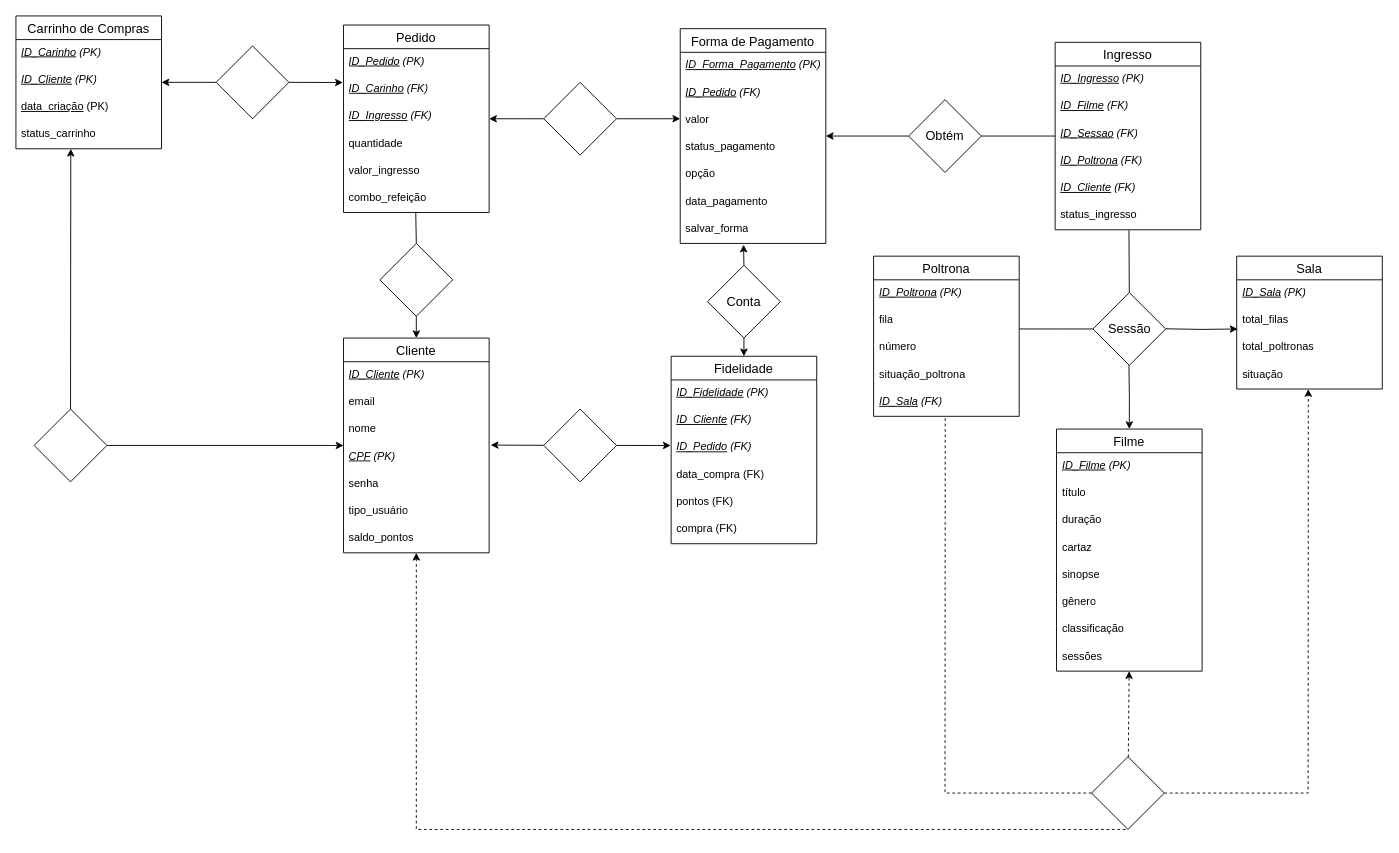
Some shapes in this 1399 by 853 pixel diagram are drawn without their labels. Each missing label, with the centre of its shape:
Acumula: the point at 580,445
Criar: the point at 70,445
Edita: the point at 1127,792
Efetuar: the point at 580,118
Fará: the point at 416,279
Guarda: the point at 252,82
